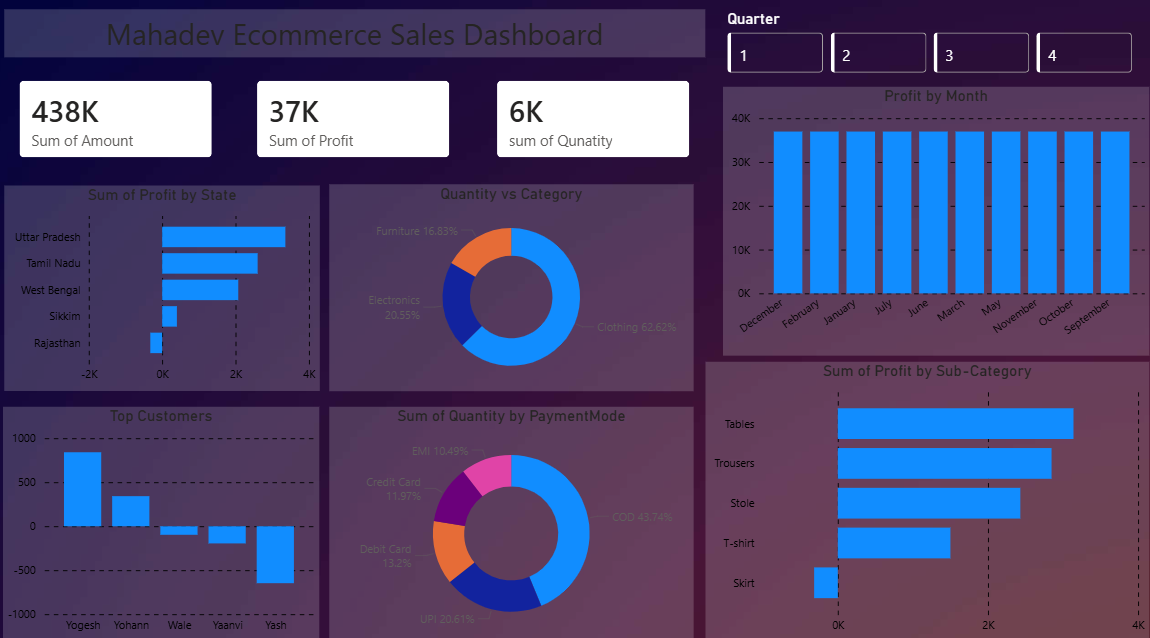

The page's visual inventory and layout, read from the dashboard file:
{"tool":"powerbi","page":{"name":"Dashboard","canvas":[1280,720],"ordinal":0},"visuals":[{"type":"textbox","box":[12.3,18.4,769.3,52.8],"z":0},{"type":"advancedSlicerVisual","fields":{"Values":["Calender.Quarter"]},"box":[801.4,17.8,456.9,75.5],"z":1000},{"type":"barChart","fields":{"Category":["Orders.State"],"Y":["Sum(Details.Profit)"]},"box":[12.3,211.3,346.7,225.6],"z":2000},{"type":"donutChart","title":"Quantity vs Category","fields":{"Y":["Sum(Details.Quantity)"],"Category":["Details.Category"]},"box":[369.3,209.8,400,227],"z":3000},{"type":"clusteredColumnChart","title":"Profit by Month","fields":{"Category":["Calender.Month Name"],"Y":["Sum(Details.Profit)"]},"box":[801.4,102.9,467.9,295],"z":4000},{"type":"clusteredBarChart","fields":{"Category":["Details.Sub-Category"],"Y":["Sum(Details.Profit)"]},"box":[782.2,404.8,487.1,307.4],"z":5000},{"type":"clusteredColumnChart","title":"Top Customers","fields":{"Category":["Orders.CustomerName"],"Y":["Sum(Details.Profit)"]},"box":[11,454.2,347.2,258],"z":6000},{"type":"donutChart","fields":{"Category":["Details.PaymentMode"],"Y":["Sum(Details.Quantity)"]},"box":[369.3,454,400,257.7],"z":7000},{"type":"cardVisual","fields":{"Data":["Sum(Details.Amount)"]},"box":[12.3,79.6,245.6,118],"z":8000},{"type":"cardVisual","fields":{"Data":["Sum(Details.Profit)"]},"box":[273.1,79.6,245.6,118],"z":9000},{"type":"cardVisual","fields":{"Data":["Details.sum of Qunatity"]},"box":[536.5,79.6,245.6,118],"z":10000}]}

Visuals, with their boxes in screenshot pixels (x1, y1, x2, y2), scaled from the page's 1280x720 canvas onto the 1150x638 screenshot:
textbox: x1=11 y1=16 x2=702 y2=63
advancedSlicerVisual - Calender.Quarter: x1=720 y1=16 x2=1131 y2=83
barChart - Orders.State x Sum(Details.Profit): x1=11 y1=187 x2=323 y2=387
"Quantity vs Category" donutChart: x1=332 y1=186 x2=691 y2=387
"Profit by Month" clusteredColumnChart: x1=720 y1=91 x2=1140 y2=353
clusteredBarChart - Details.Sub-Category x Sum(Details.Profit): x1=703 y1=359 x2=1140 y2=631
"Top Customers" clusteredColumnChart: x1=10 y1=402 x2=322 y2=631
donutChart - Details.PaymentMode x Sum(Details.Quantity): x1=332 y1=402 x2=691 y2=631
cardVisual - Sum(Details.Amount): x1=11 y1=71 x2=232 y2=175
cardVisual - Sum(Details.Profit): x1=245 y1=71 x2=466 y2=175
cardVisual - Details.sum of Qunatity: x1=482 y1=71 x2=703 y2=175
